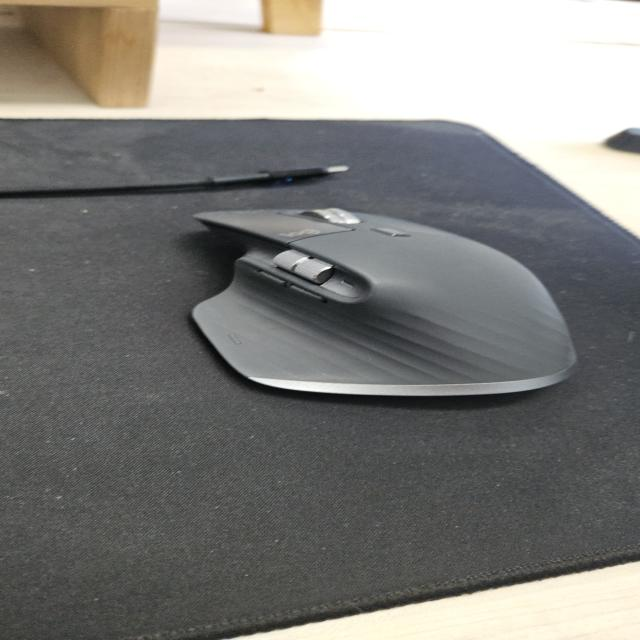Mouse: (186, 204, 580, 398)
